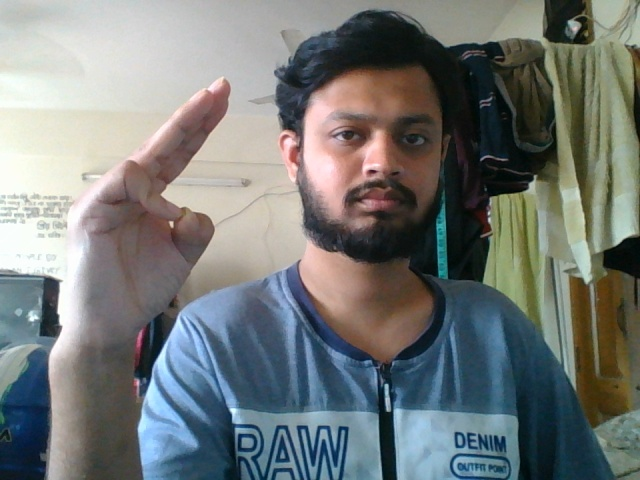ma: (64, 72, 238, 377)
